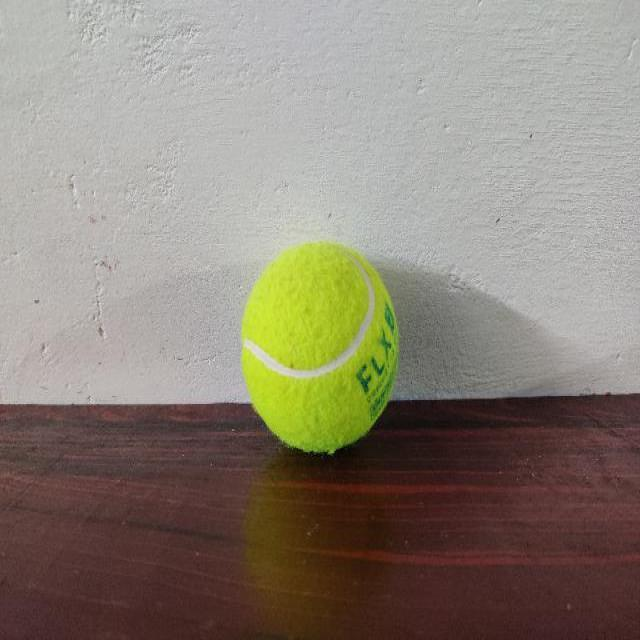tennis-ball: (241, 241, 400, 455)
